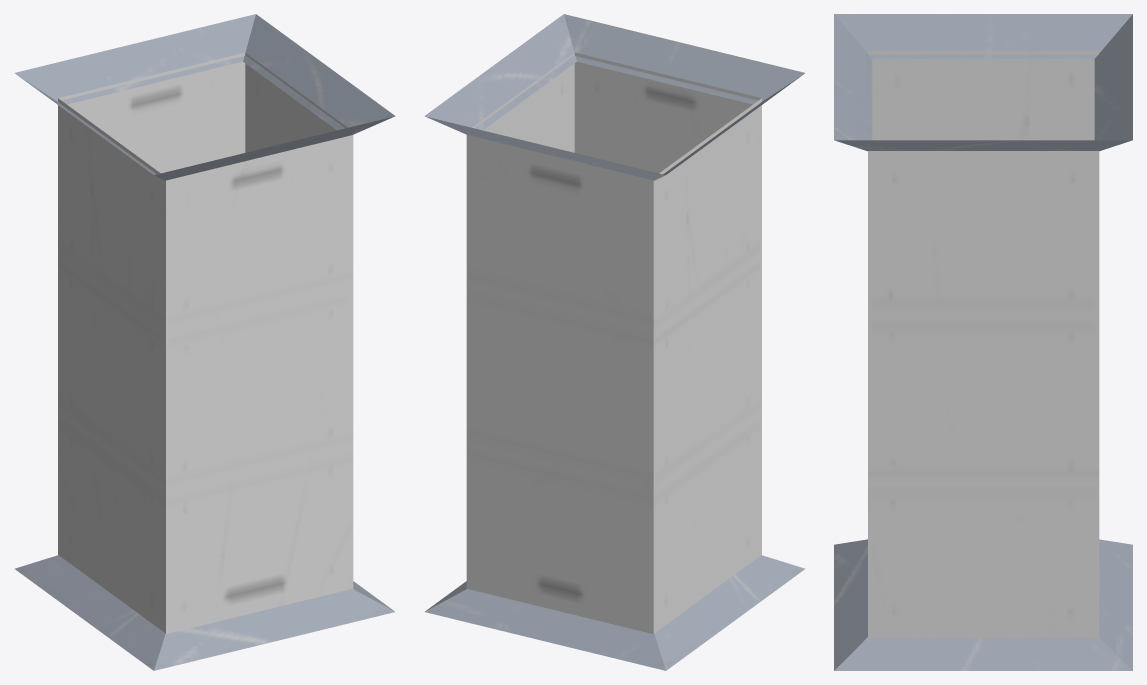
File: Pfb_Soda_ExhaustSystem1__5.fbx
3 renders of one model, left to right at view 1: azimuth 30°, elevation 25°; view 2: azimuth 150°, elevation 25°; view 3: azimuth 270°, elevation 25°, orthographic. The views are drawn at different scales.
Visible parts, largest first — view 1: MAT_Soda_Pipe 1; view 2: MAT_Soda_Pipe 1; view 3: MAT_Soda_Pipe 1.
Part boxes in pixels (bbox=[...]): MAT_Soda_Pipe 1: bbox=[14, 14, 395, 670]; MAT_Soda_Pipe 1: bbox=[424, 14, 805, 670]; MAT_Soda_Pipe 1: bbox=[834, 14, 1132, 670].
Size of the model in its own units: 0.5585 by 1.09 by 0.5585.
Materials: 1 (1 with a texture image).
